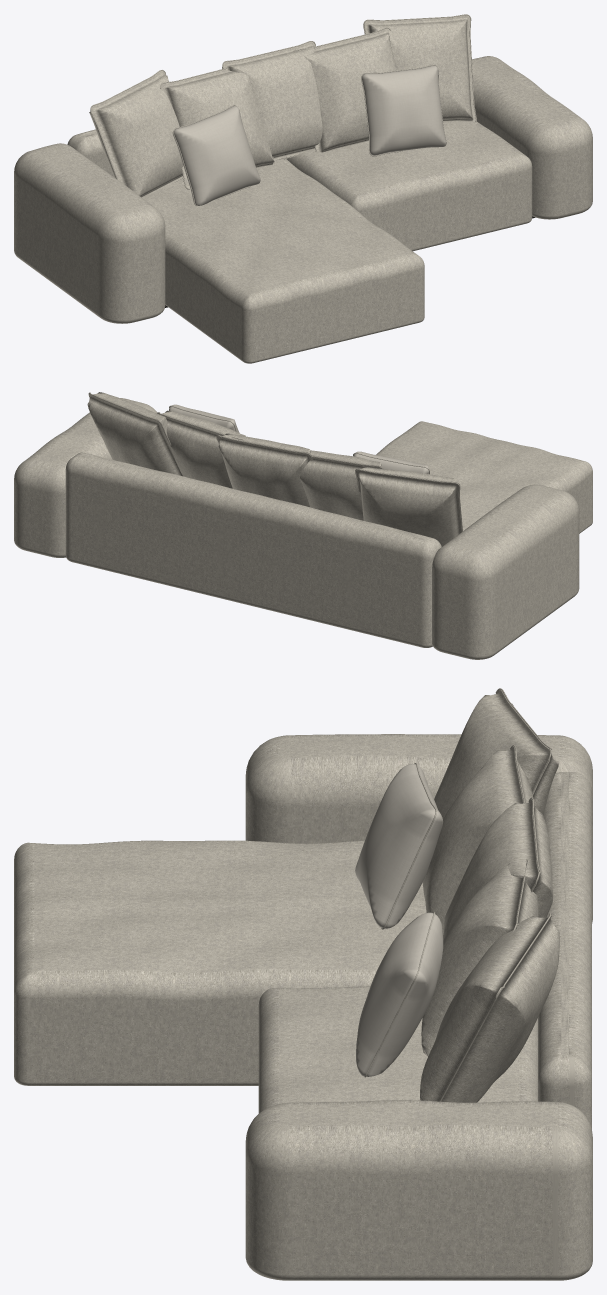
File: chaise.glb
3 renders of one model, top to bottom at view 1: azimuth 30°, elevation 25°; view 2: azimuth 150°, elevation 25°; view 3: azimuth 270°, elevation 25°, orthographic. The views are drawn at different scales.
Visible parts, largest first — view 1: fabric, pillows (×3); view 2: fabric, pillows (×3); view 3: fabric, pillows (×3).
Part boxes in pixels (x1=…): fabric: x1=14, y1=56, x2=592, y2=363; pillows (×3): x1=89, y1=14, x2=476, y2=205; fabric: x1=14, y1=398, x2=592, y2=659; pillows (×3): x1=87, y1=392, x2=462, y2=546; fabric: x1=14, y1=734, x2=592, y2=1280; pillows (×3): x1=355, y1=688, x2=559, y2=1102.
Size of the model in its own units: 3.2 by 1 by 2.
Materials: 4 (4 with a texture image).
